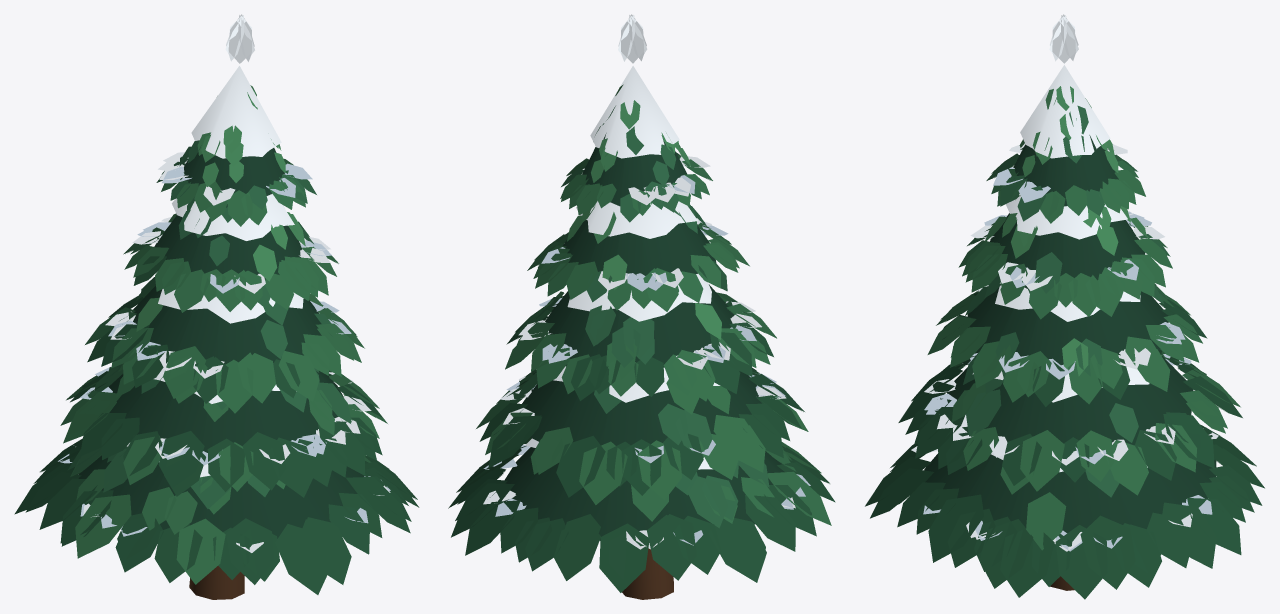
File: TreePineSnow.glb
3 renders of one model, left to right at view 1: azimuth 30°, elevation 25°; view 2: azimuth 150°, elevation 25°; view 3: azimuth 270°, elevation 25°, orthographic.
Visible parts, largest first — view 1: Sway; view 2: Sway; view 3: Sway.
Part boxes in pixels (bbox=[...]): Sway: bbox=[14, 14, 419, 599]; Sway: bbox=[448, 14, 835, 599]; Sway: bbox=[865, 14, 1264, 599].
Size of the model in its own units: 8.59 by 13.69 by 8.67.
1 material, 1 textured.
